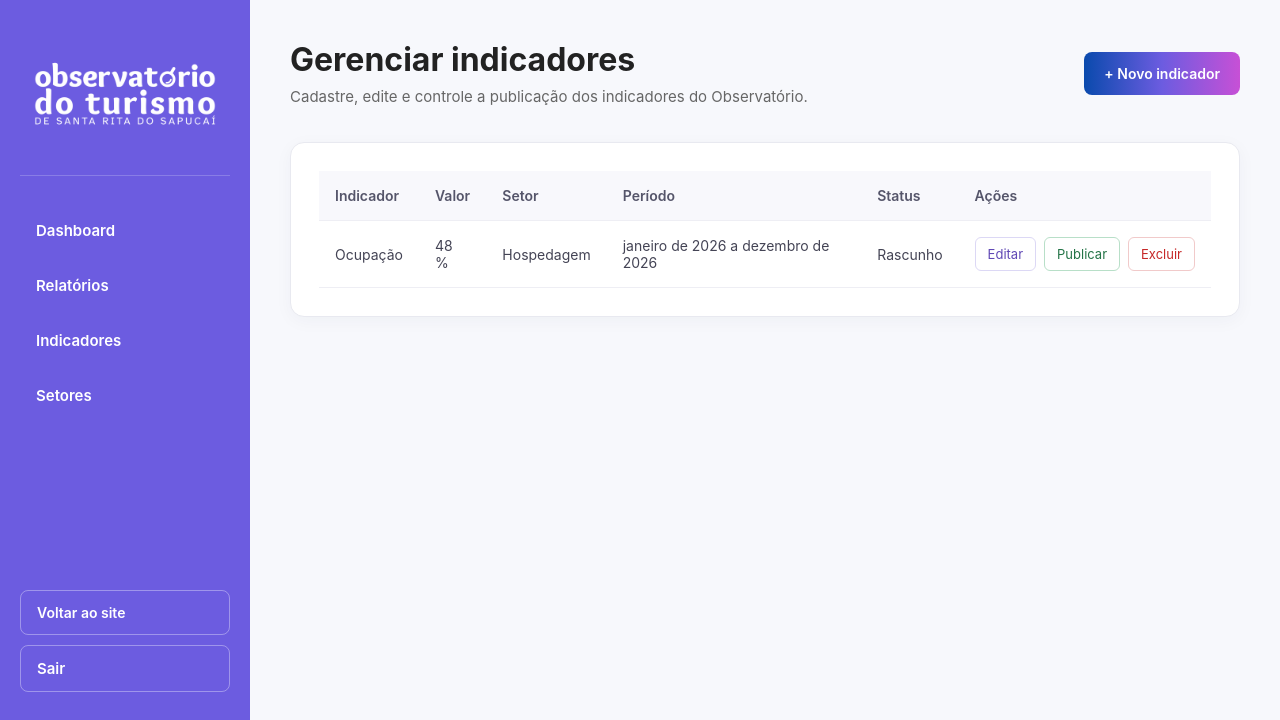
it: Gerenciamento de indicadores › exclui um indicador após confirmação
Expected: the text "Ocupação" is shown, [319,220,419,288]
Click the button "Excluir": (1161, 254) [1128,237,1195,271]
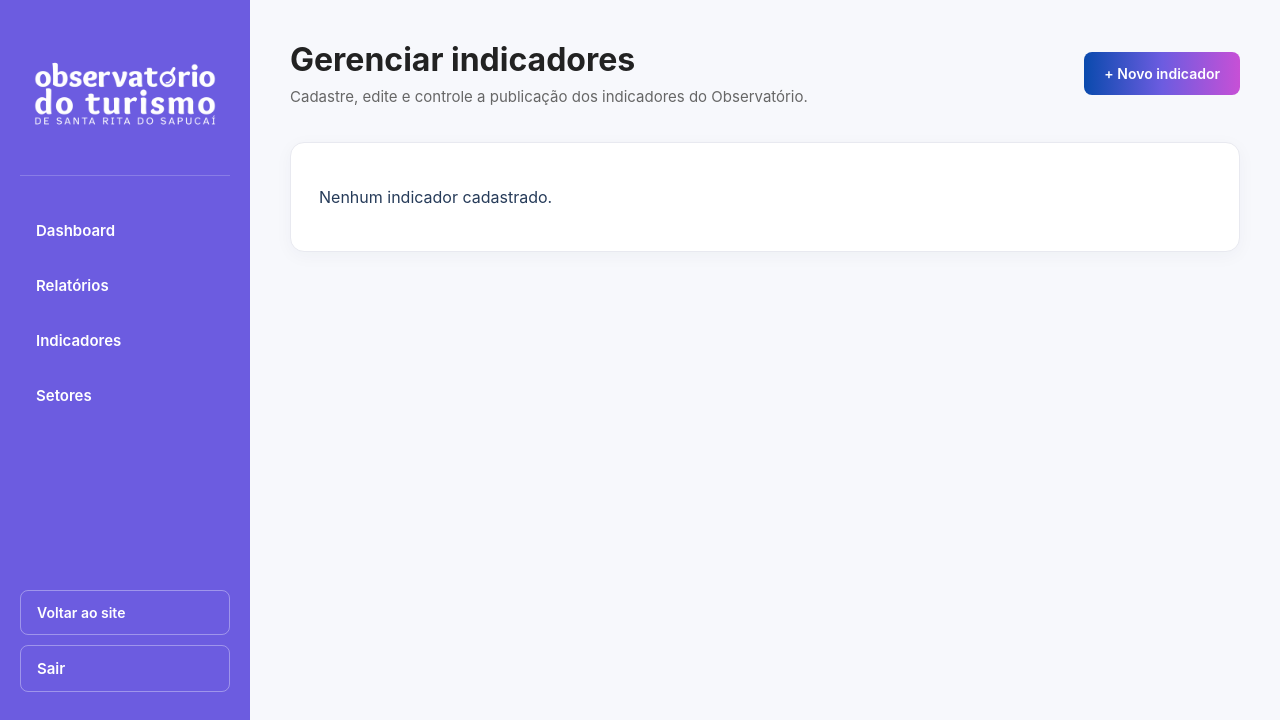
Now the text "Nenhum indicador cadastrado." is shown, box [319,187,552,207]
